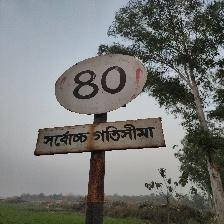Speed-limit: (36, 52, 161, 156)
